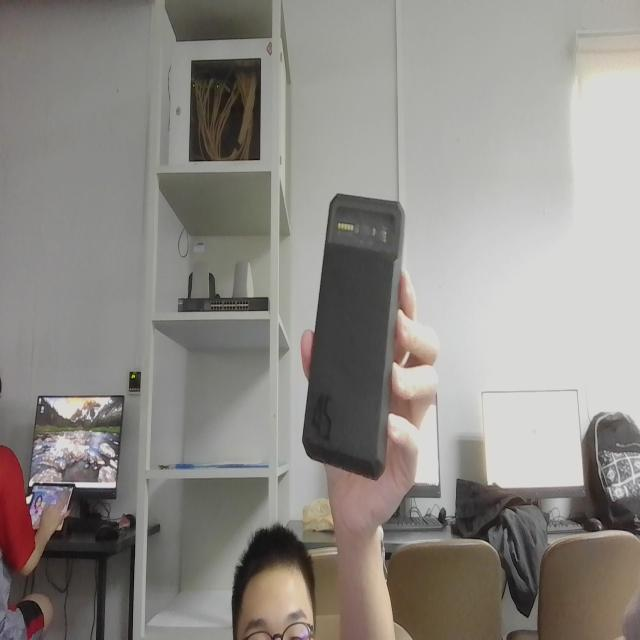power bank: (294, 185, 409, 479)
